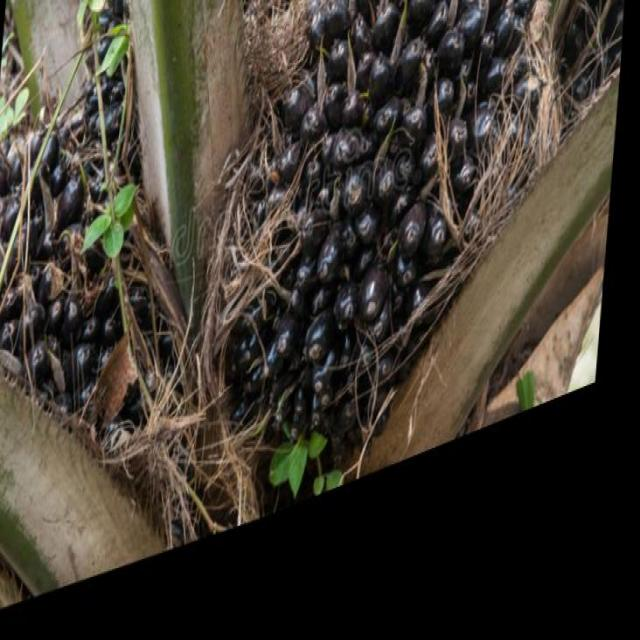Unripe: (220, 0, 565, 536)
